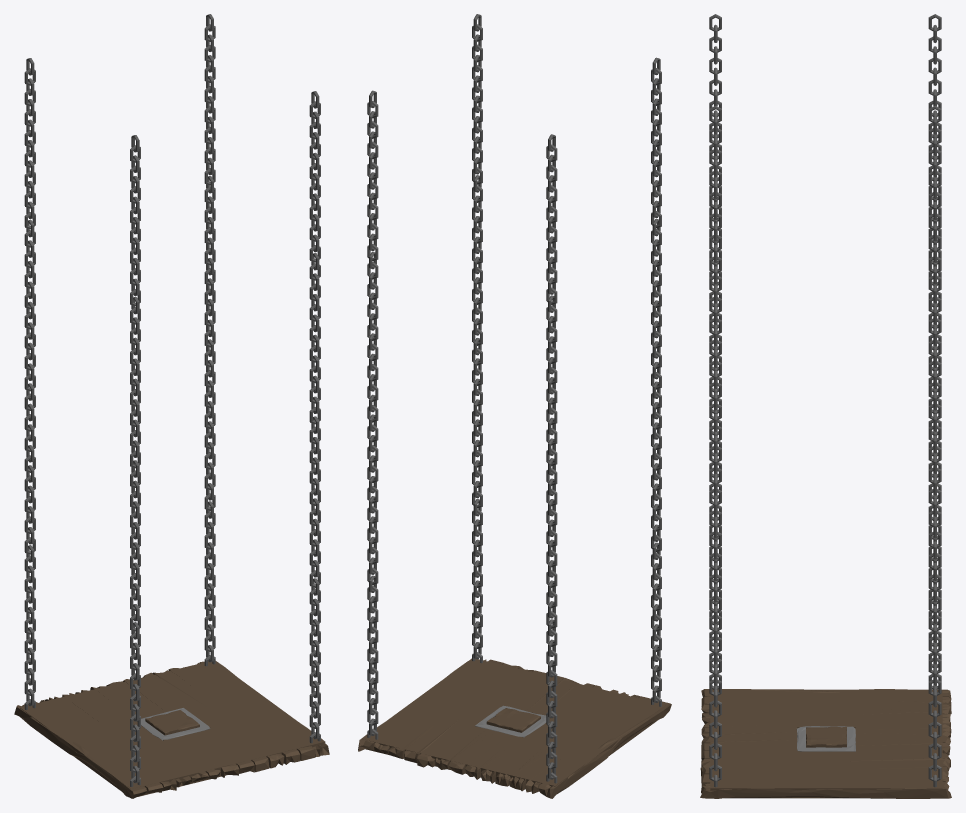
Rendered from Lift.fbx.
3 renders of one model, left to right at view 1: azimuth 30°, elevation 25°; view 2: azimuth 150°, elevation 25°; view 3: azimuth 270°, elevation 25°, orthographic. The views are drawn at different scales.
Parts seen in each view (by area): view 1: Chain, Platform, Platform.001, PressurePlate Moving Part, PressurePlate; view 2: Chain, Platform, Platform.001, PressurePlate Moving Part, PressurePlate; view 3: Platform, Chain, Platform.001, PressurePlate Moving Part, PressurePlate.
Part boxes in pixels (x1,y1,x2,y2): Chain: [24, 14, 320, 786]; Platform: [20, 661, 325, 798]; Platform.001: [14, 661, 329, 798]; PressurePlate Moving Part: [145, 710, 199, 735]; PressurePlate: [137, 708, 210, 740]; Chain: [367, 14, 661, 783]; Platform: [362, 658, 665, 786]; Platform.001: [358, 659, 671, 798]; PressurePlate Moving Part: [486, 708, 540, 732]; PressurePlate: [475, 705, 546, 737]; Platform: [710, 689, 942, 798]; Chain: [709, 14, 941, 787]; Platform.001: [700, 689, 951, 798]; PressurePlate Moving Part: [806, 726, 846, 747]; PressurePlate: [796, 726, 855, 751].
Size of the model in its own units: 4328 by 13856 by 4592.
